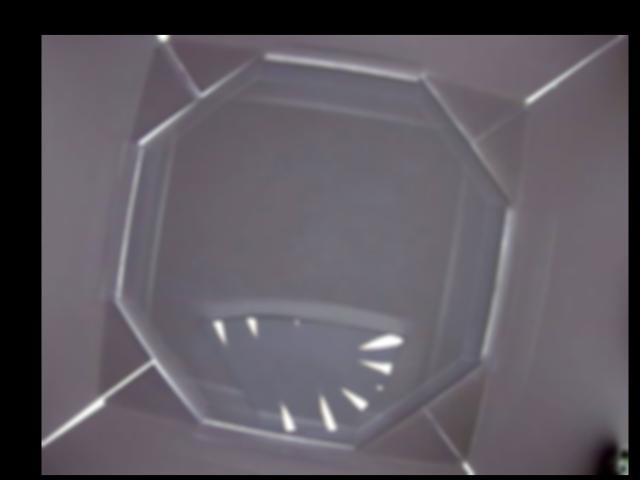China: (201, 313, 401, 433)
